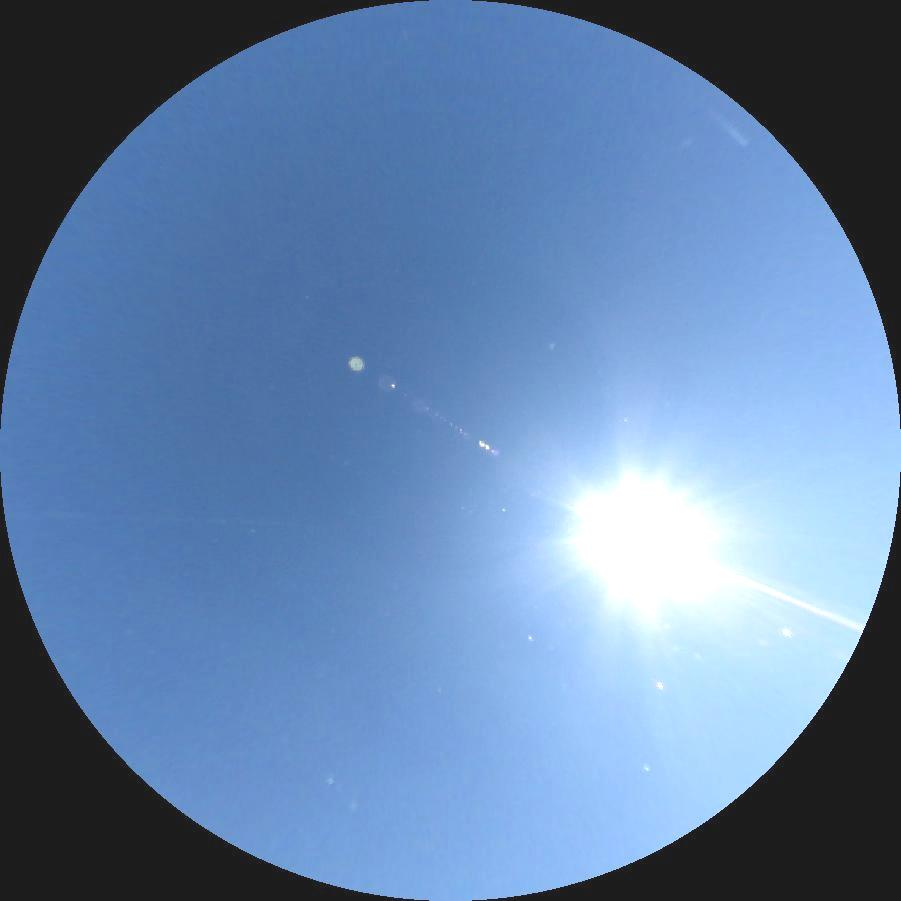contrail young: (700, 106, 752, 151)
parasite: (689, 554, 866, 633)
sun: (564, 460, 718, 616)
